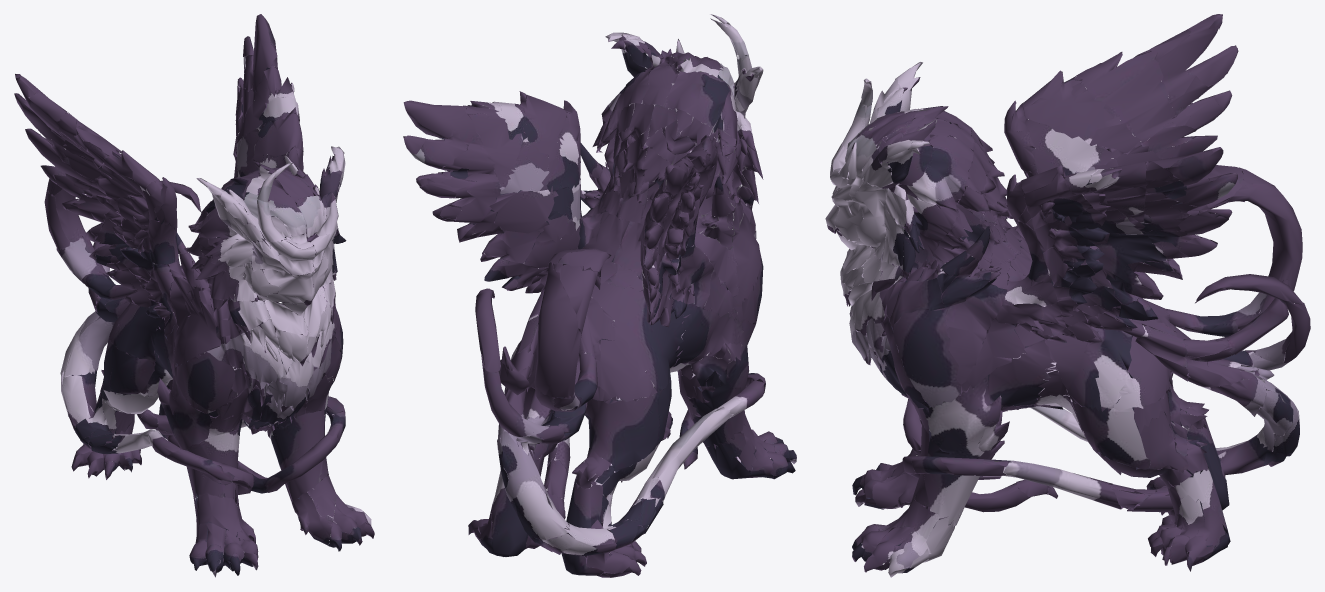
3 views of the same model, side by side, from view 1: azimuth 30°, elevation 25°; view 2: azimuth 150°, elevation 25°; view 3: azimuth 270°, elevation 25° (orthographic). The views are drawn at different scales.
Parts seen in each view (by area): view 1: Mesh_0; view 2: Mesh_0; view 3: Mesh_0.
Boxes of the visible parts, left/top/right/bottom form: Mesh_0: left=14, top=14, right=374, bottom=577; Mesh_0: left=403, top=14, right=796, bottom=577; Mesh_0: left=825, top=14, right=1310, bottom=577.
Size of the model in its own units: 1.25 by 1.9 by 1.85.
1 material, 1 textured.
